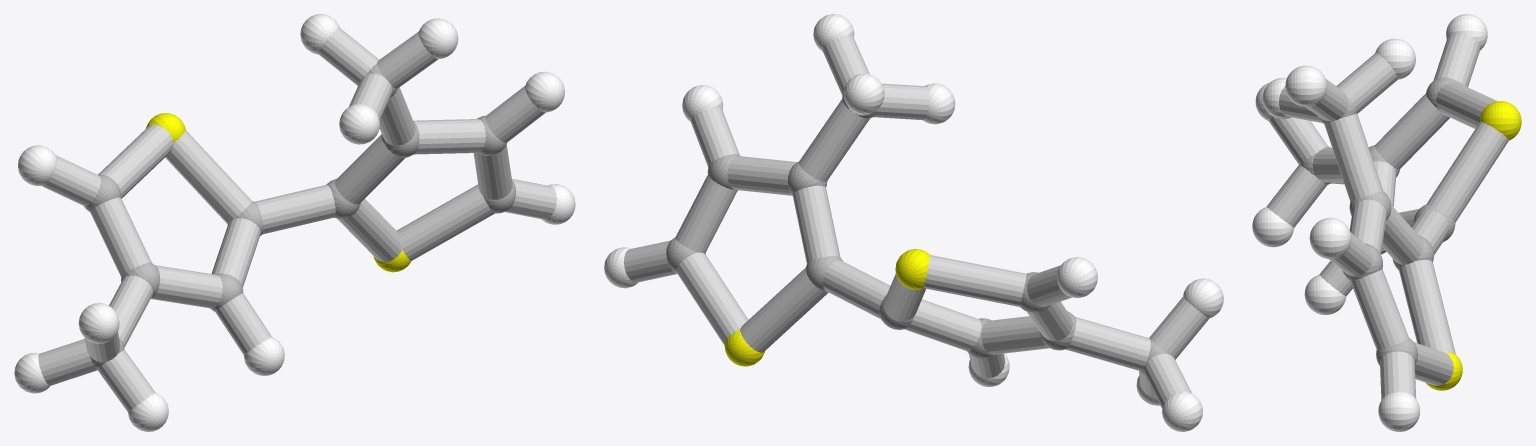
File: Methylthiophene_Phi_25_Theta_70_Methylthiophene.glb
3 views of the same model, side by side, from view 1: azimuth 30°, elevation 25°; view 2: azimuth 150°, elevation 25°; view 3: azimuth 270°, elevation 25° (orthographic). The views are drawn at different scales.
Visible parts, largest first — view 1: grp7965, grp3621, grp1, grp7241; view 2: grp7965, grp3621, grp1, grp7241; view 3: grp7965, grp3621, grp1, grp7241.
Boxes of the visible parts, left/top/right/bottom form: grp7965: left=38, top=28, right=556, bottom=411; grp3621: left=14, top=14, right=575, bottom=431; grp1: left=84, top=63, right=516, bottom=368; grp7241: left=146, top=113, right=411, bottom=272; grp7965: left=623, top=35, right=1209, bottom=408; grp3621: left=604, top=14, right=1223, bottom=431; grp1: left=666, top=93, right=1166, bottom=375; grp7241: left=724, top=249, right=930, bottom=366; grp7965: left=1266, top=33, right=1508, bottom=399; grp3621: left=1252, top=14, right=1487, bottom=431; grp1: left=1300, top=77, right=1462, bottom=365; grp7241: left=1425, top=101, right=1521, bottom=390.
Size of the model in its own units: 9.7 by 5.23 by 3.86.
